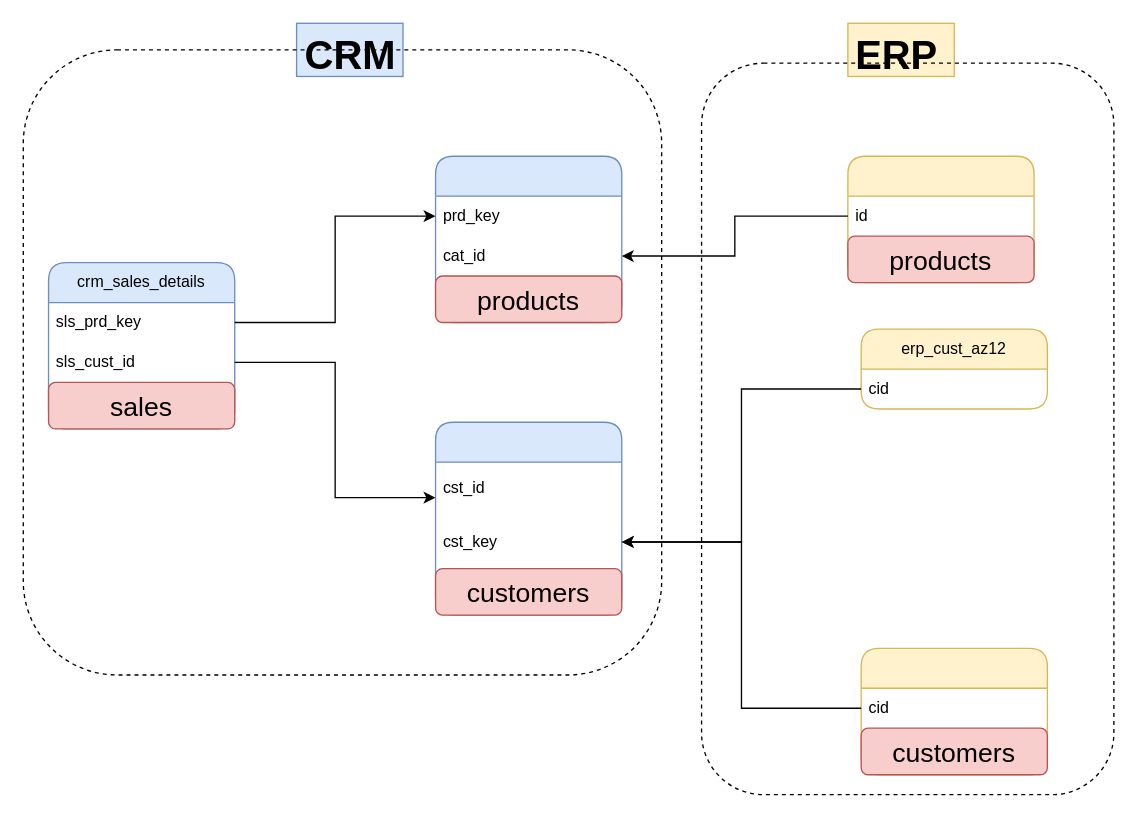
Image size: 1137x818. Some labels were removed from this diagram. The box of each missing label's shape, as (x1, y1, x2, y2) in pixels:
crm_cust_info: (434, 421, 622, 615)
crm_prd_info: (434, 155, 622, 323)
erp_loc_a101: (860, 647, 1047, 775)
erp_px_cat_g1v2: (847, 155, 1034, 283)
